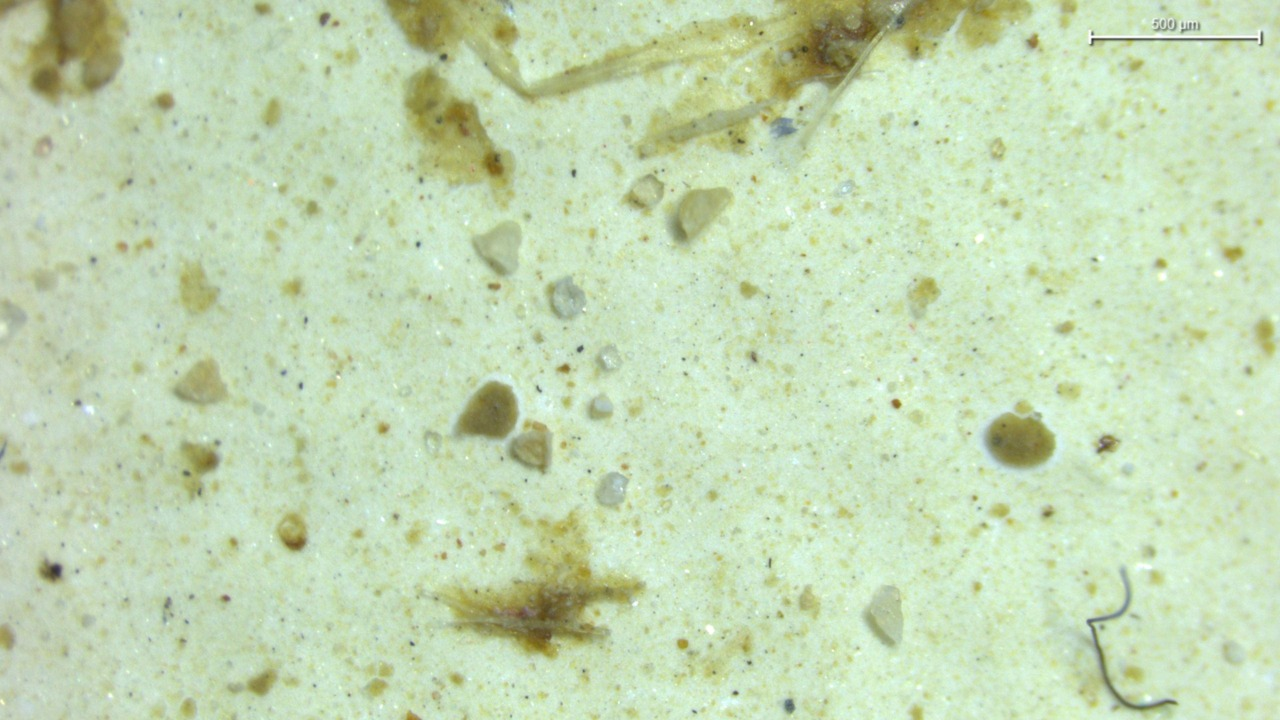microplastic_fragment: (676, 187, 732, 239), (472, 221, 522, 274), (509, 423, 550, 473), (869, 585, 903, 643), (551, 276, 586, 319), (595, 472, 629, 506), (595, 344, 622, 371), (589, 395, 614, 419)
